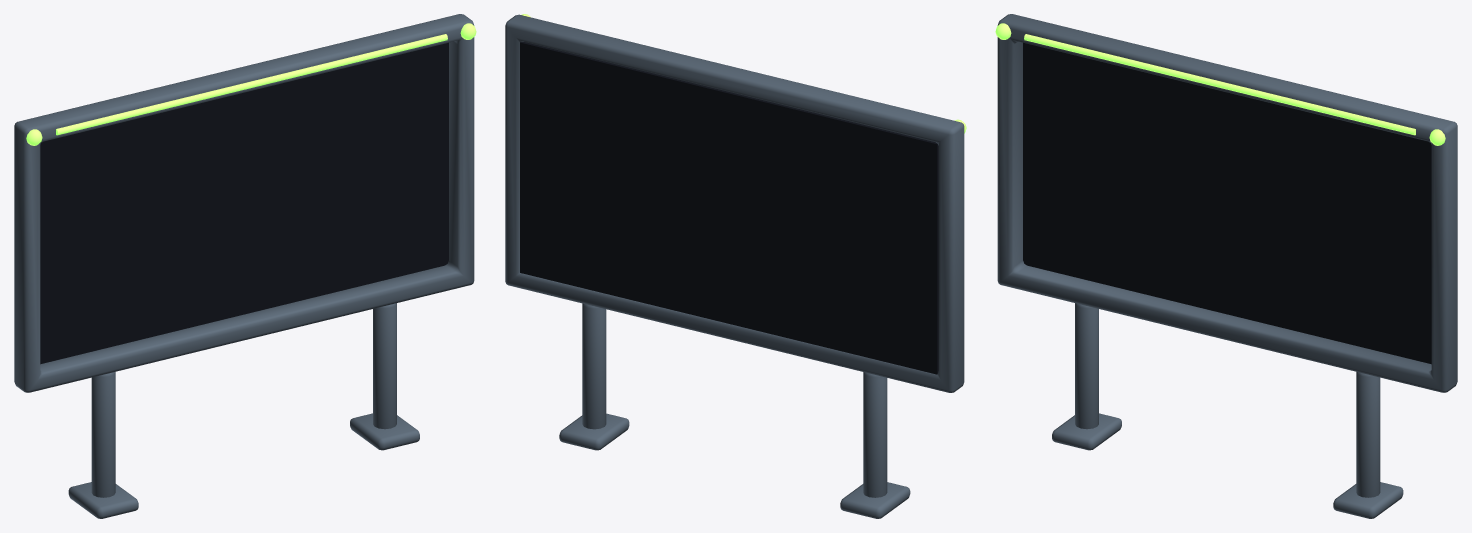
File: TableroPlaza.fbx
The picture shows the model from 3 angles, left to right: view 1: azimuth 30°, elevation 25°; view 2: azimuth 150°, elevation 25°; view 3: azimuth 330°, elevation 25°; orthographic projection.
Parts seen in each view (by area): view 1: TableroPlaza_Fondo, TableroPlaza_Marco, TableroPlaza_Luz_Neon; view 2: TableroPlaza_Fondo, TableroPlaza_Marco; view 3: TableroPlaza_Fondo, TableroPlaza_Marco, TableroPlaza_Luz_Neon.
Part boxes in pixels (x1,y1,x2,y2): TableroPlaza_Fondo: (40,42,448,364); TableroPlaza_Marco: (14,14,474,518); TableroPlaza_Luz_Neon: (26,23,476,145); TableroPlaza_Fondo: (520,42,938,374); TableroPlaza_Marco: (505,14,964,518); TableroPlaza_Fondo: (1023,42,1431,364); TableroPlaza_Marco: (997,14,1457,518); TableroPlaza_Luz_Neon: (995,23,1445,145).
Size of the model in its own units: 19.4 by 16.45 by 2.4.
